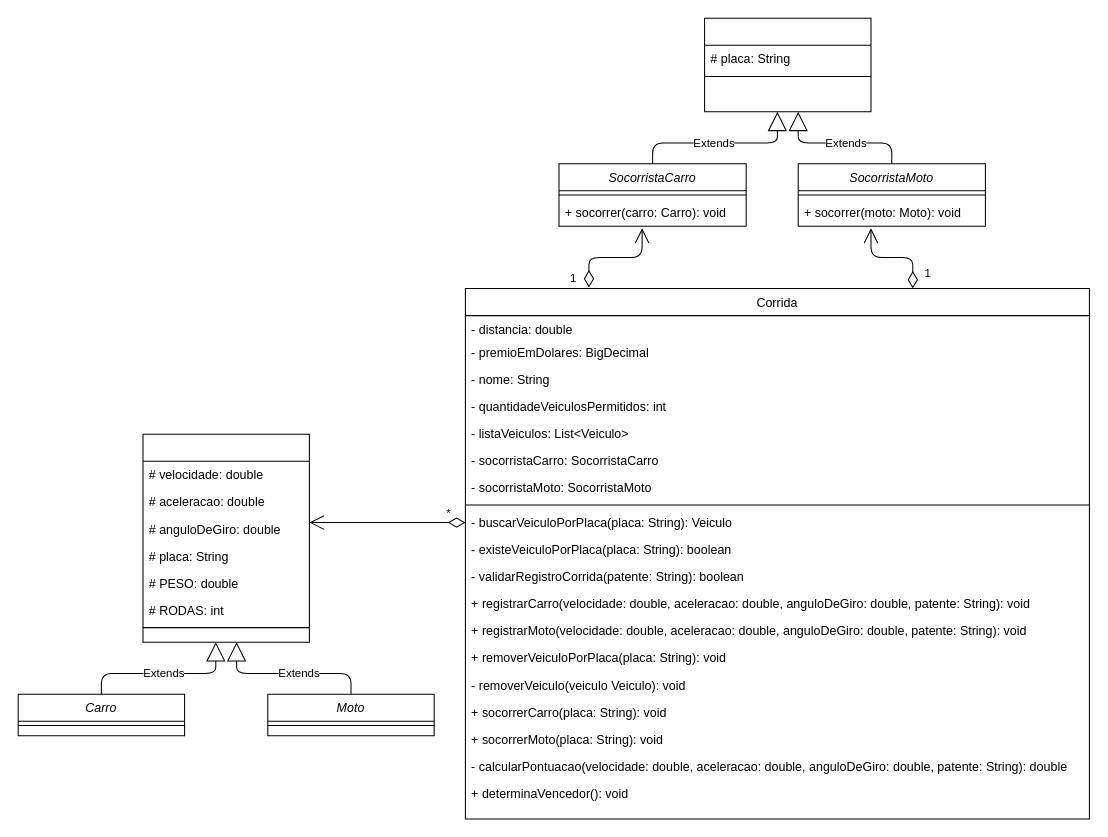
Image size: 1108x837. Some labels were removed from this diagram. Here are the shapes that lost their labels. From the top down, the box of each, then its label:
(704, 17, 871, 112): SocorristaVeiculo
(142, 433, 309, 642): Veículo
